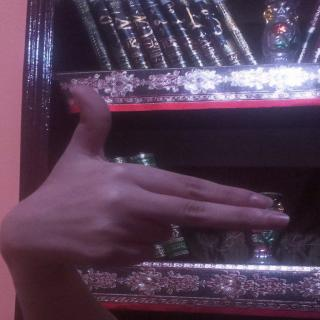GHAYN: (52, 81, 294, 268)
